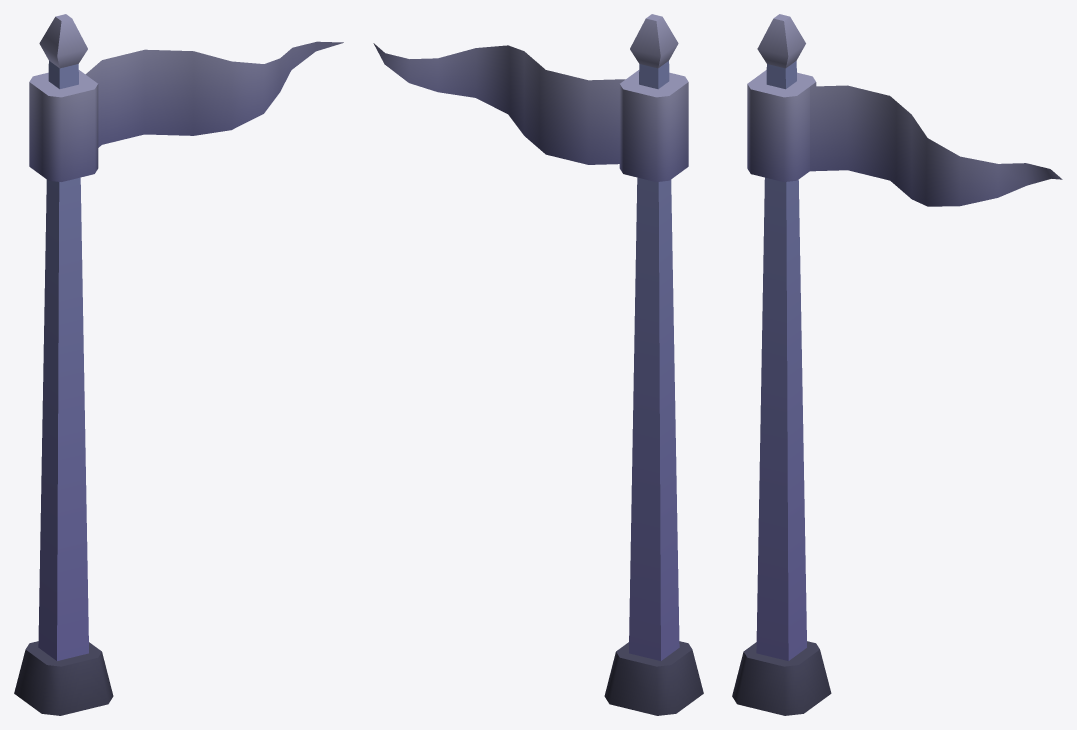
File: flag-pirate-high-pennant.fbx
The picture shows the model from 3 angles, left to right: view 1: azimuth 30°, elevation 25°; view 2: azimuth 150°, elevation 25°; view 3: azimuth 330°, elevation 25°; orthographic projection.
Parts seen in each view (by area): view 1: flag-pirate-high-pennant; view 2: flag-pirate-high-pennant; view 3: flag-pirate-high-pennant.
Part boxes in pixels (box(x1,y1,x2,y2)): flag-pirate-high-pennant: box(14, 14, 343, 715); flag-pirate-high-pennant: box(373, 14, 703, 715); flag-pirate-high-pennant: box(732, 14, 1062, 715).
Bounding box in the file's own units: 176 × 360 × 39.89.
